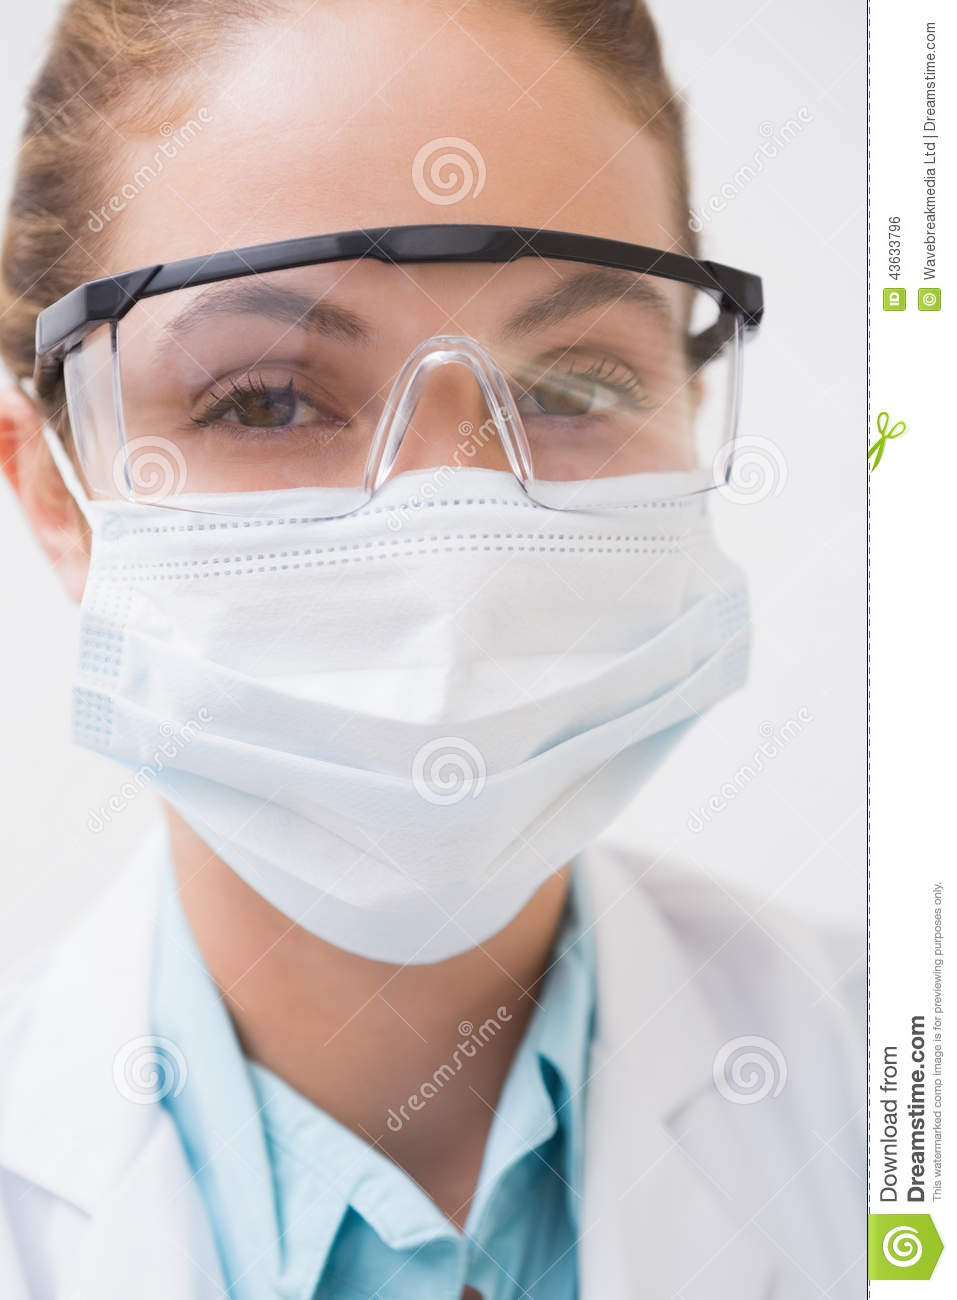mask: (50, 463, 764, 981)
